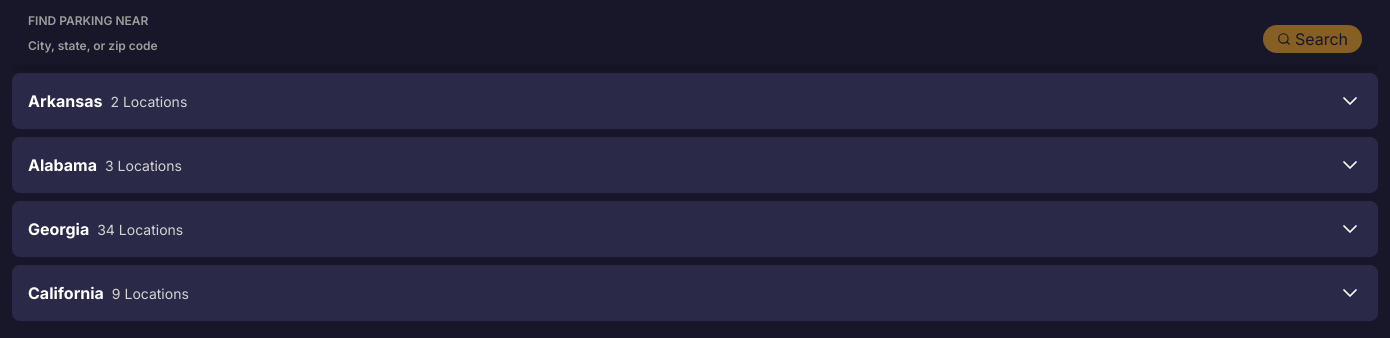
Test: LocationsAccordion › shows an empty state when no static location matches
The image size is (1390, 338).
Type "New York" into the search field labelled "Find parking near" at (639, 45), box 28,33 -> 1251,57
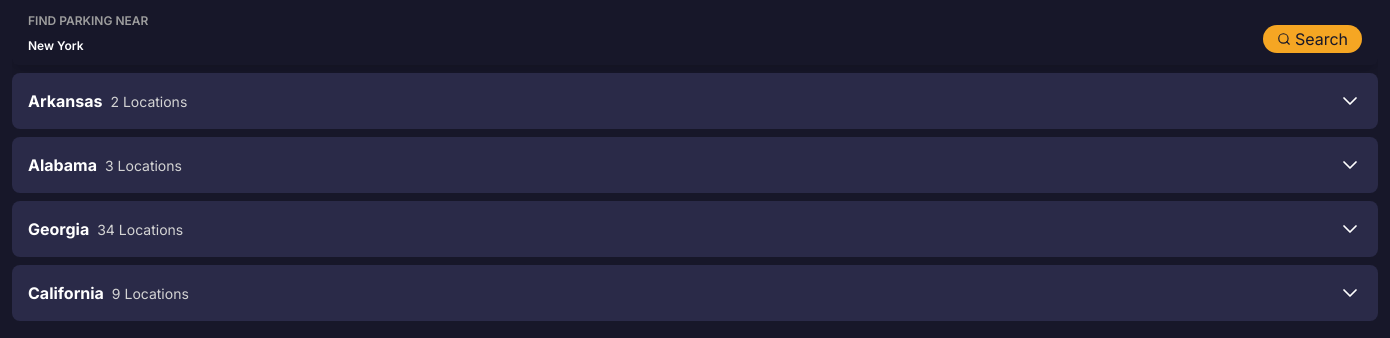
Click the button "Search" at (1312, 39), box 1263,25 -> 1362,53
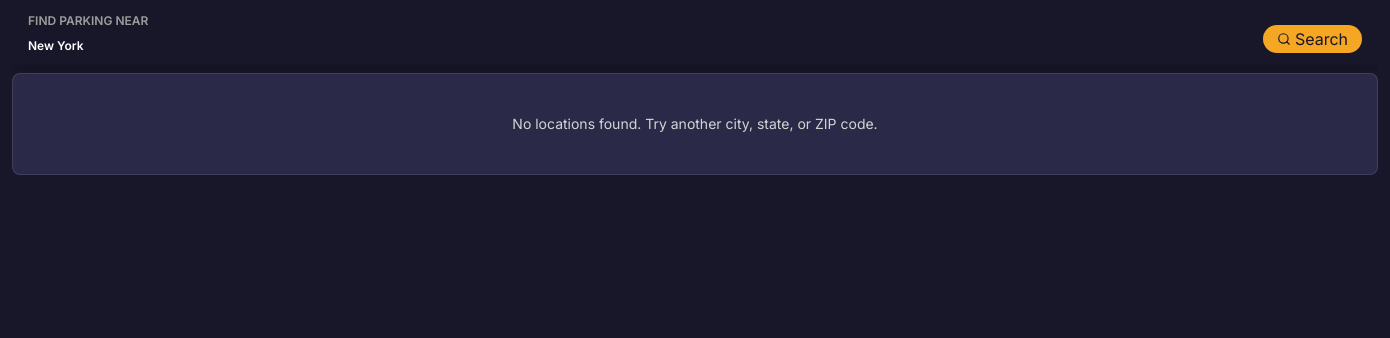
Result: the message reads "No locations found. Try another city, state, or ZIP code." at 512,115 -> 878,132
